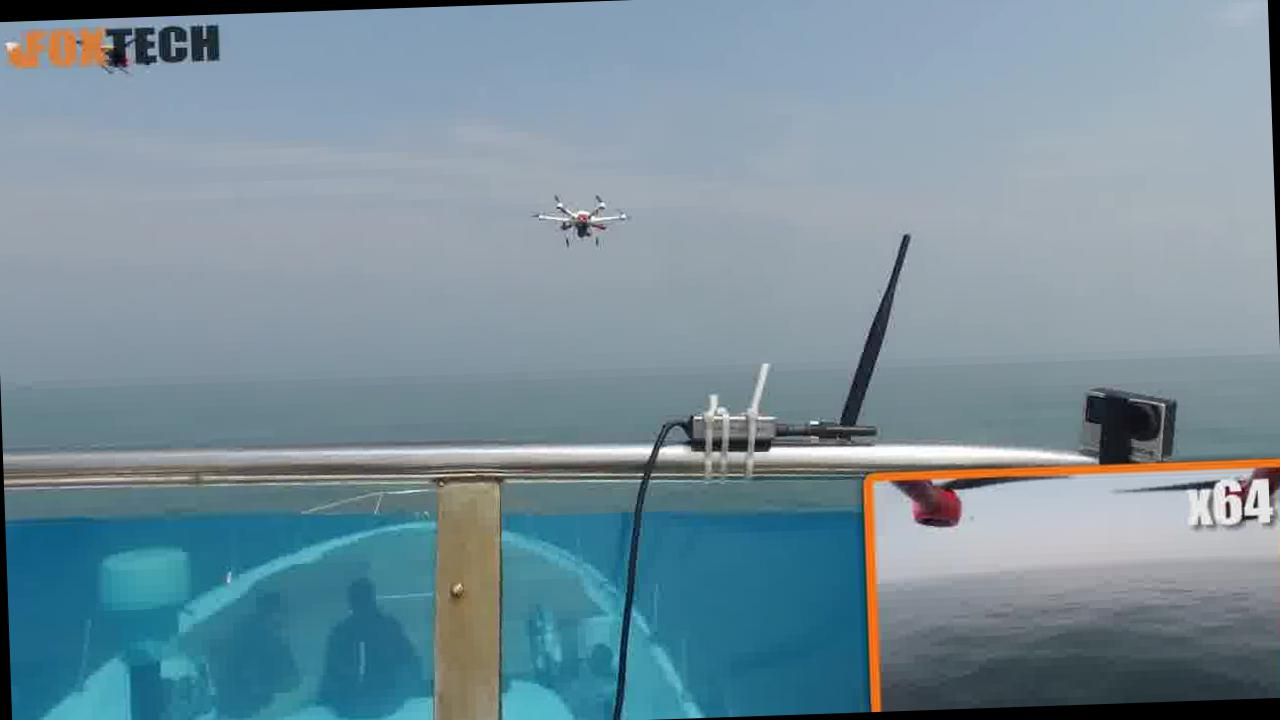drone: (508, 182, 630, 252)
